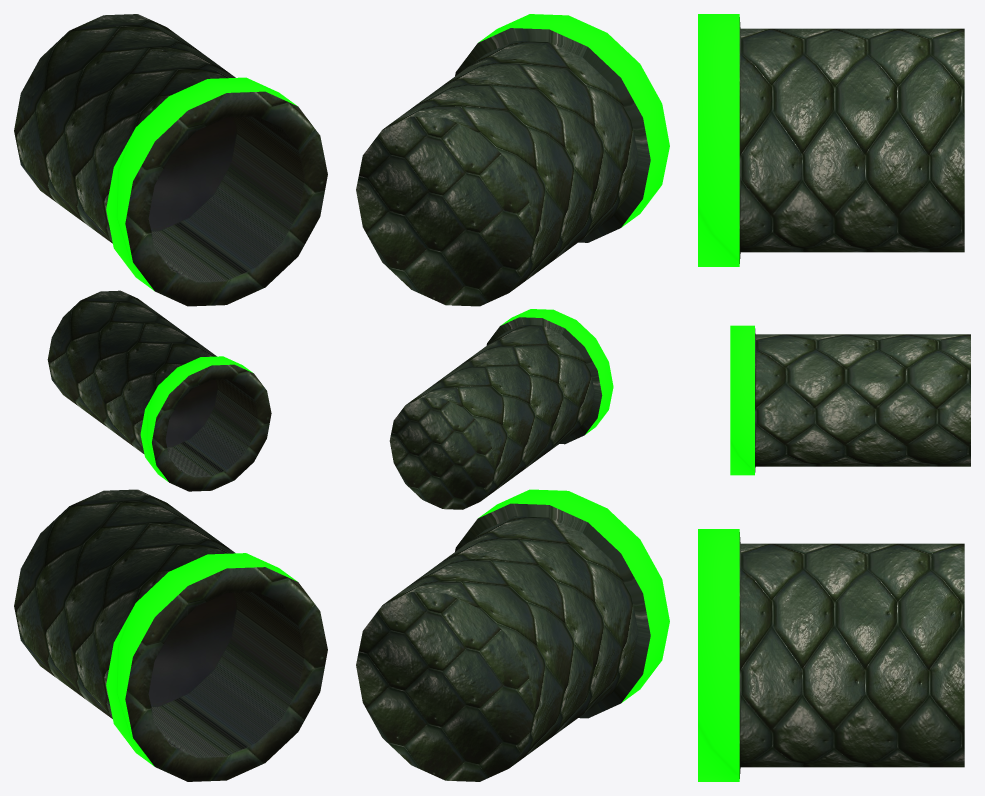
The model's file is Sewer Pipes.glb.
3 views of the same model, side by side, from view 1: azimuth 30°, elevation 25°; view 2: azimuth 150°, elevation 25°; view 3: azimuth 270°, elevation 25° (orthographic). The views are drawn at different scales.
Visible parts, largest first — view 1: Sewer Pipes; view 2: Sewer Pipes; view 3: Sewer Pipes.
Boxes of the visible parts, <box> form: Sewer Pipes: <box>14,14,327,781</box>; Sewer Pipes: <box>356,14,669,781</box>; Sewer Pipes: <box>698,14,970,781</box>.
Size of what is drawn, in the model's own units: 7.27 by 23.57 by 7.83.
Materials: 2 (1 with a texture image).
